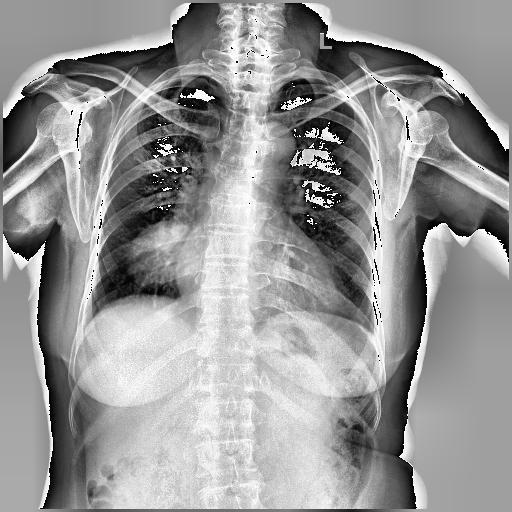0- Aortic enlargement: (254, 118, 296, 172)
3- Cardiomegaly: (178, 229, 335, 314), (177, 235, 341, 310)
8- Nodule-Mass: (126, 220, 200, 290), (124, 223, 202, 289), (130, 220, 200, 292)
